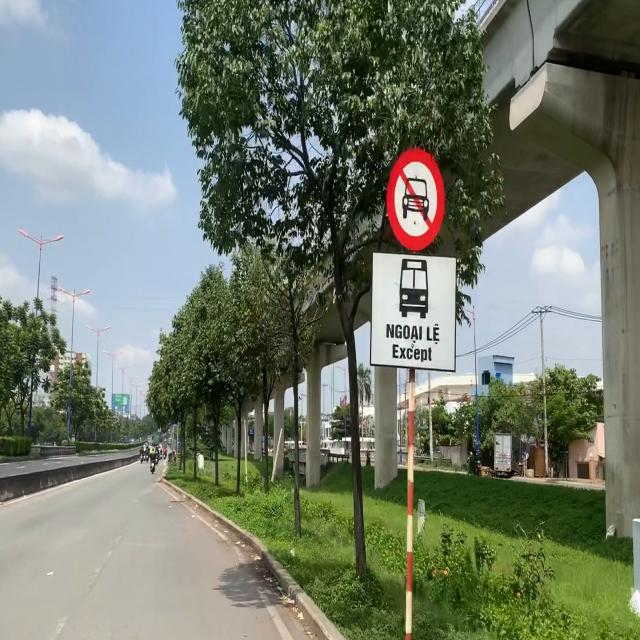Cam con lai: (388, 150, 444, 250)
